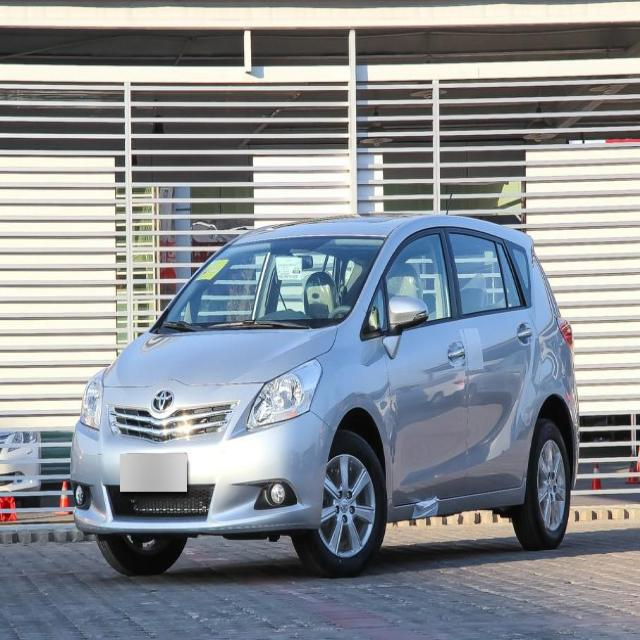back_left_side_light: (558, 310, 576, 354)
door: (439, 230, 541, 492)
front_bumper: (68, 381, 330, 533)
front_glass: (154, 235, 386, 332)
front_left_side_door: (386, 212, 470, 510)
front_left_side_light: (244, 354, 323, 436)
front_left_side_mirror: (386, 294, 429, 346)
front_right_side_light: (80, 372, 107, 435)
wheel: (304, 428, 384, 570), (514, 420, 571, 546), (99, 534, 188, 574)
